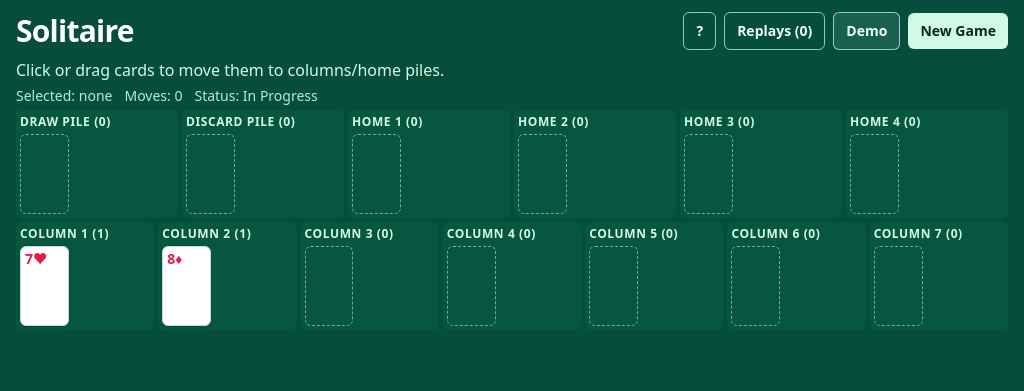
App click-to-move interactions › shows invalid feedback when selected move is illegal
Click the button "7♥". click: {"x": 44, "y": 286}
box: [20,246,69,326]
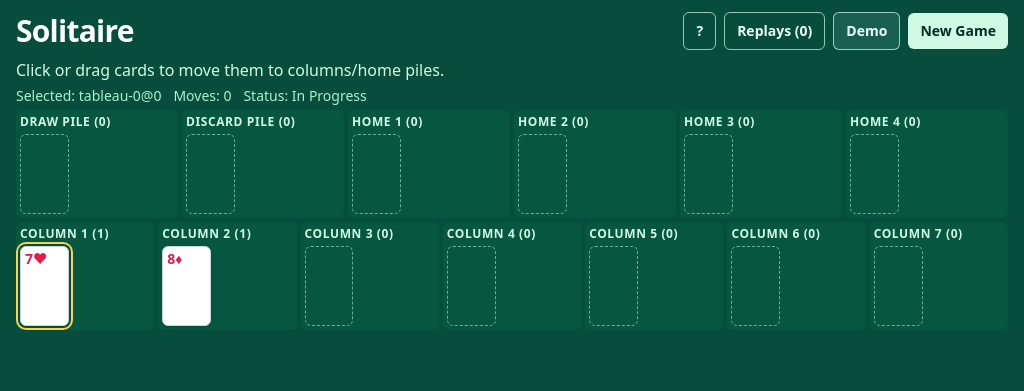
Click the button with test id "pile-tableau-1". click: {"x": 227, "y": 276}
box: [158,222,297,330]
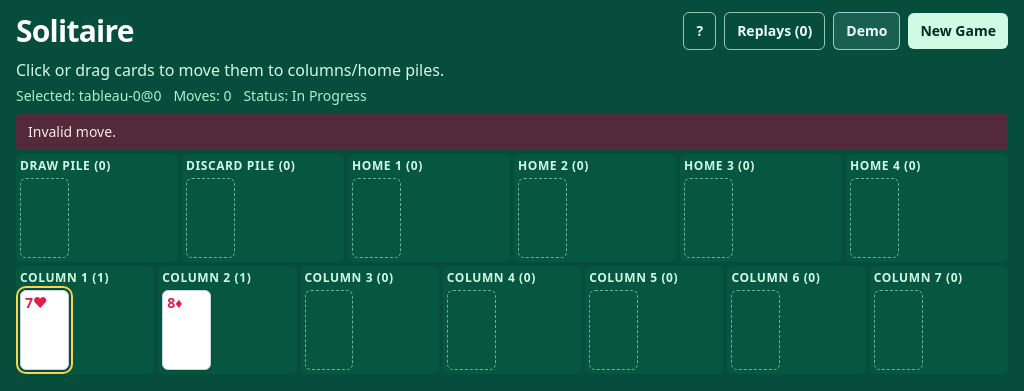
Expected: the text "Column 1 (1)" is shown, [20,269,109,286]
Now the message reads "Invalid move.", box [28,122,116,141]
